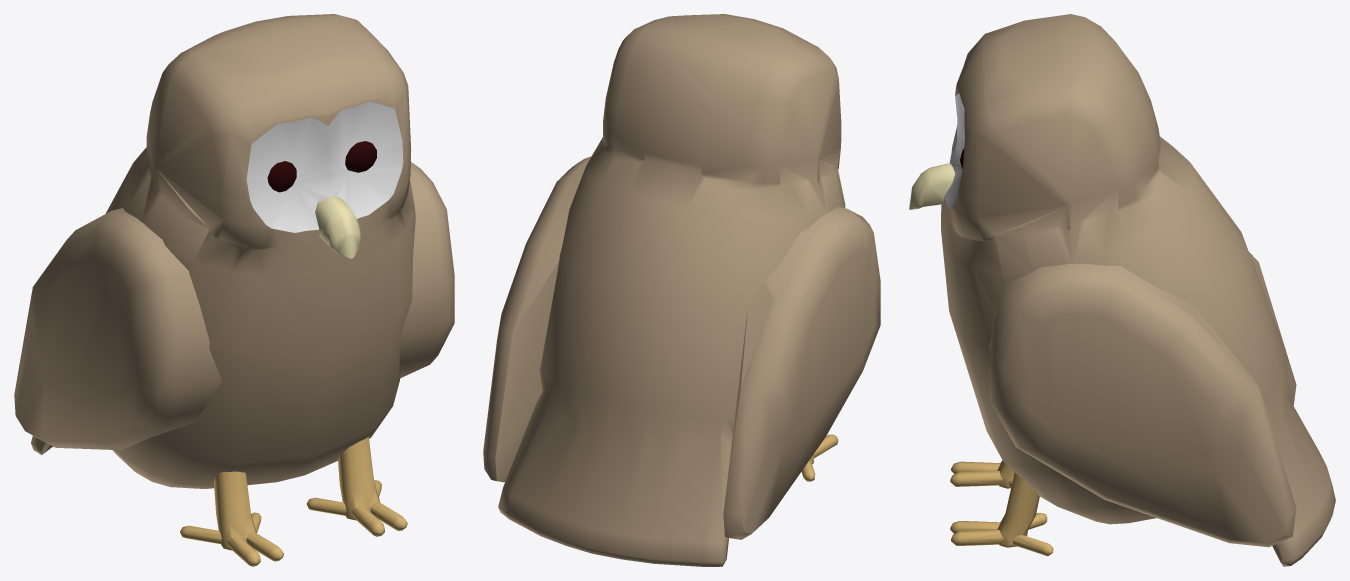
The model's file is final owl spooky tales (1).fbx.
3 renders of one model, left to right at view 1: azimuth 30°, elevation 25°; view 2: azimuth 150°, elevation 25°; view 3: azimuth 270°, elevation 25°, orthographic. The views are drawn at different scales.
Parts seen in each view (by area): view 1: 3d-model; view 2: 3d-model; view 3: 3d-model.
Part boxes in pixels (x1,y1,x2,y2): 3d-model: (14,14,454,566); 3d-model: (483,14,880,566); 3d-model: (909,14,1335,566).
Size of the model in its own units: 93.98 by 137 by 113.
